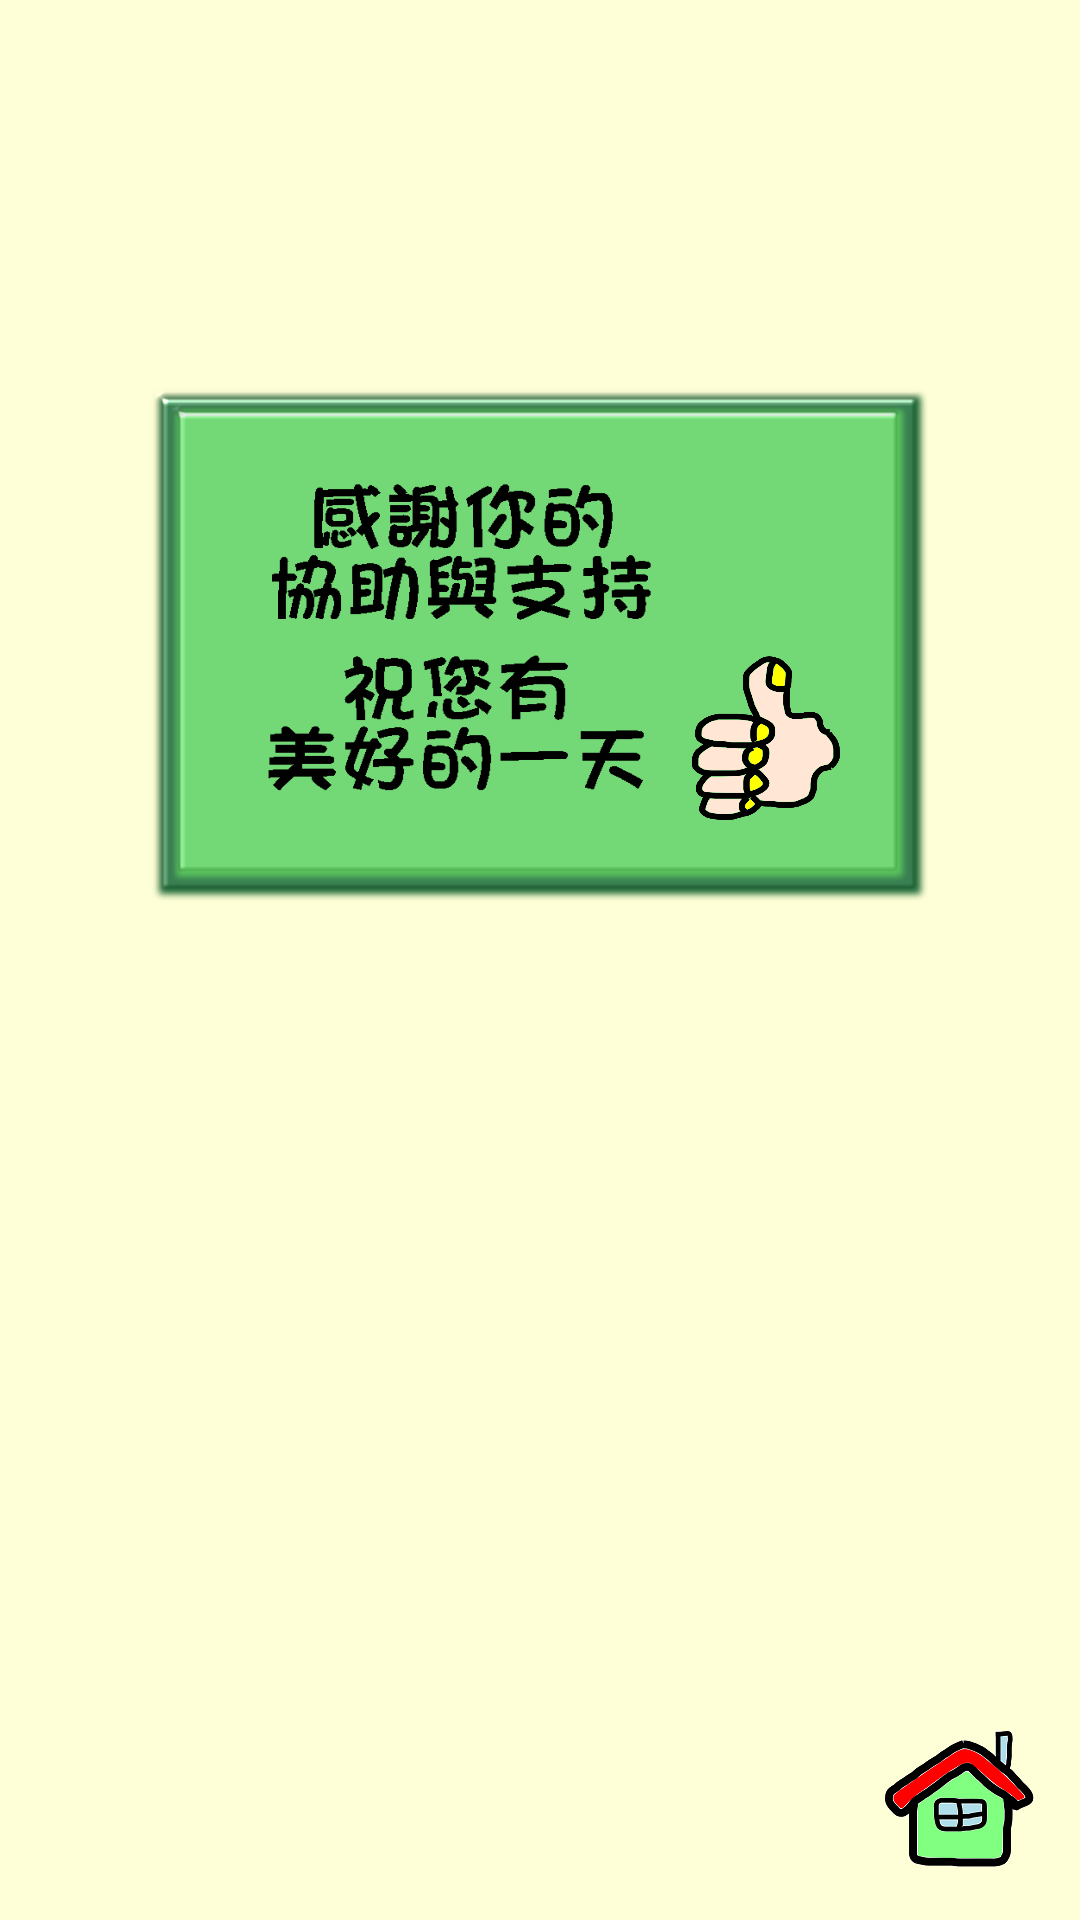

Screen size 1080px×1920px. Icon name, then its center in pixels as (x=x, y=y):
home: (x=959, y=1799)
